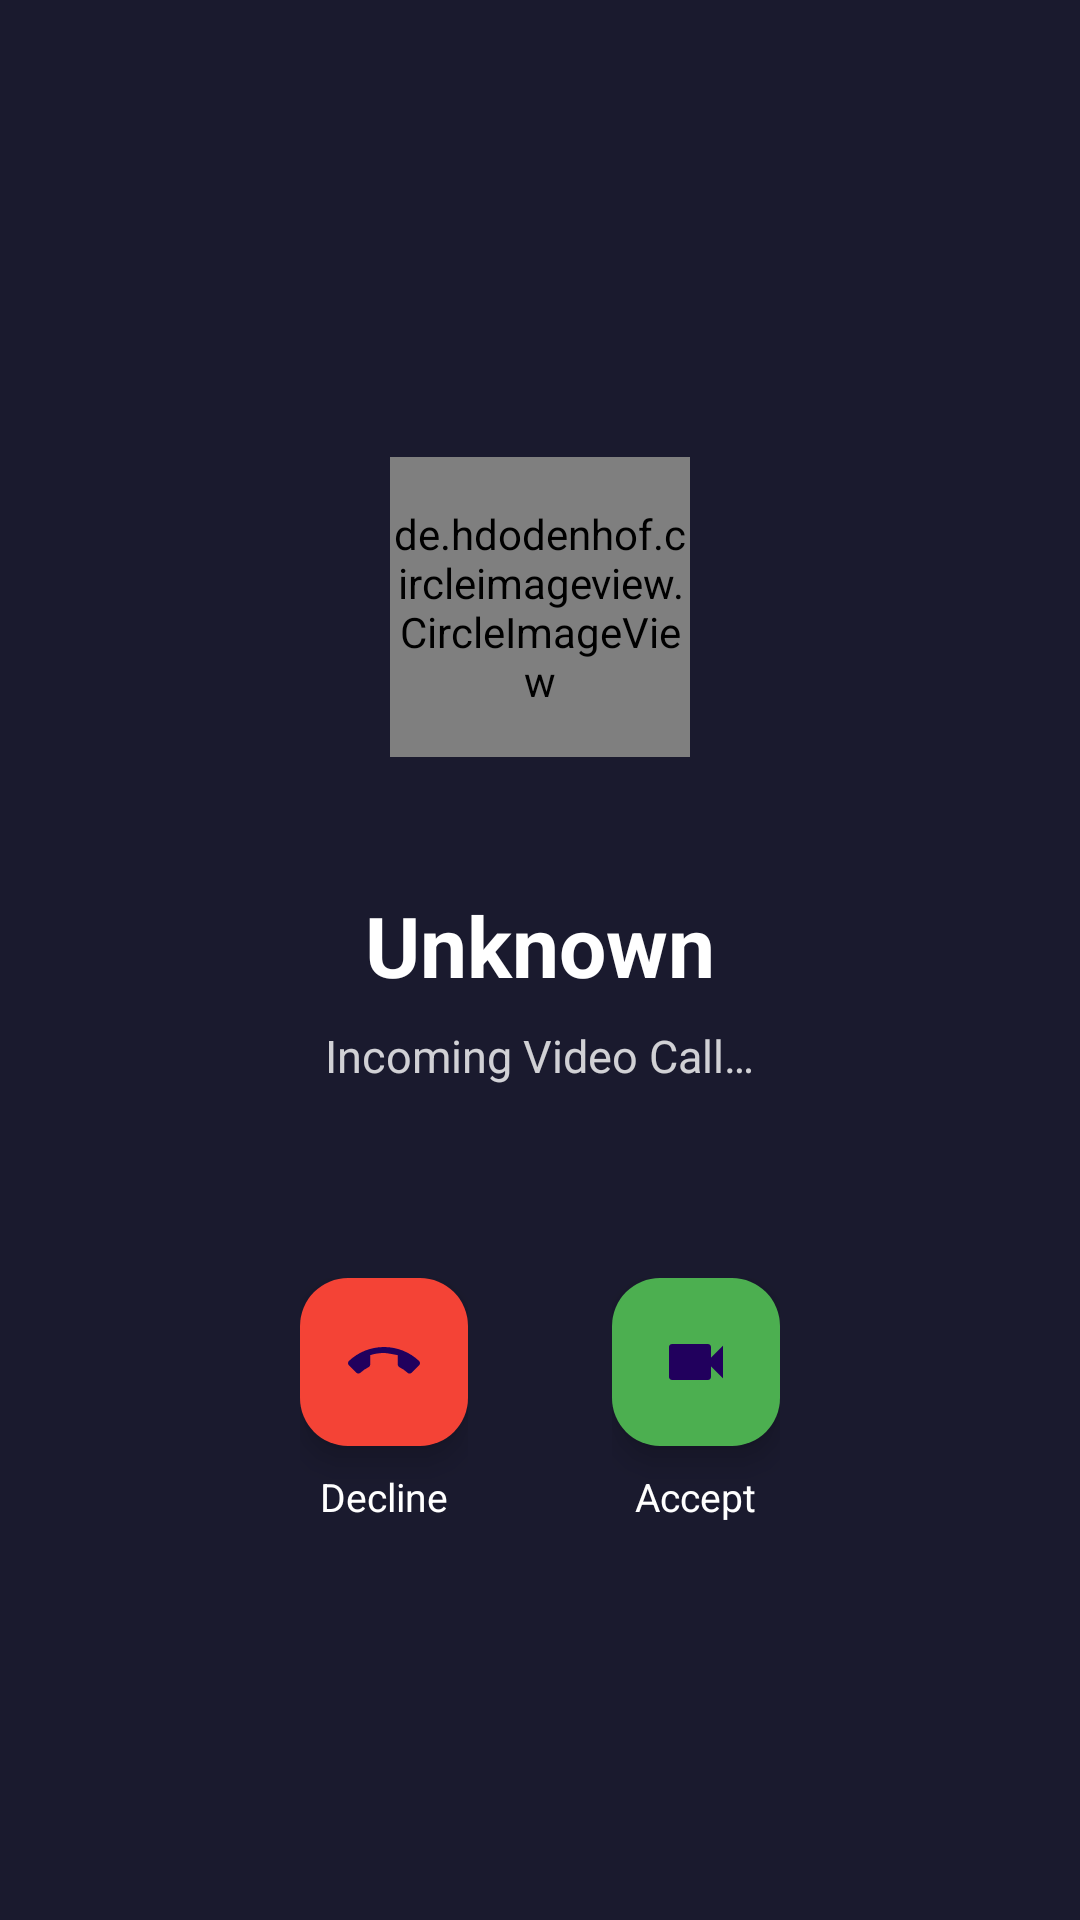

Point at icon controls on the screen. Image size 1080w x 1920h, points as [x,y].
call end: [384,1362]
videocam: [696,1362]
